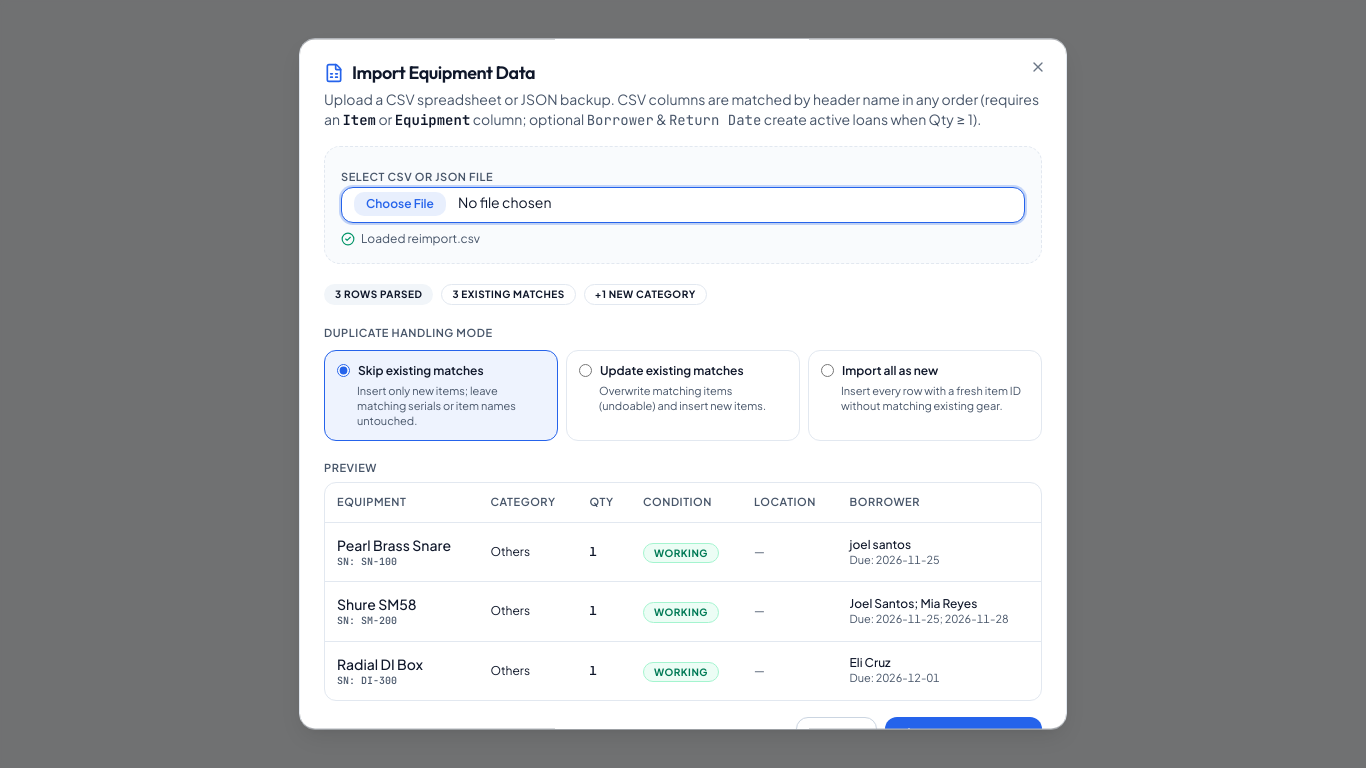
Test: ImportWizardDialog › skips duplicate active loans when re-importing an exported CSV in update mode while creating genuinely new loans
This screenshot has width=1366, height=768.
Earlier steps of the test are not shown.
Later steps or results of the test are not shown.
Expected: the text "Pearl Brass Snare" is shown, x1=337 y1=536 x2=451 y2=554
What coordinates should you click on to do the following:
click the radio button labelled "Update existing matches"
I would click on:
 (586, 371)
Its box is x1=579 y1=364 x2=592 y2=377.
(page scrolled)
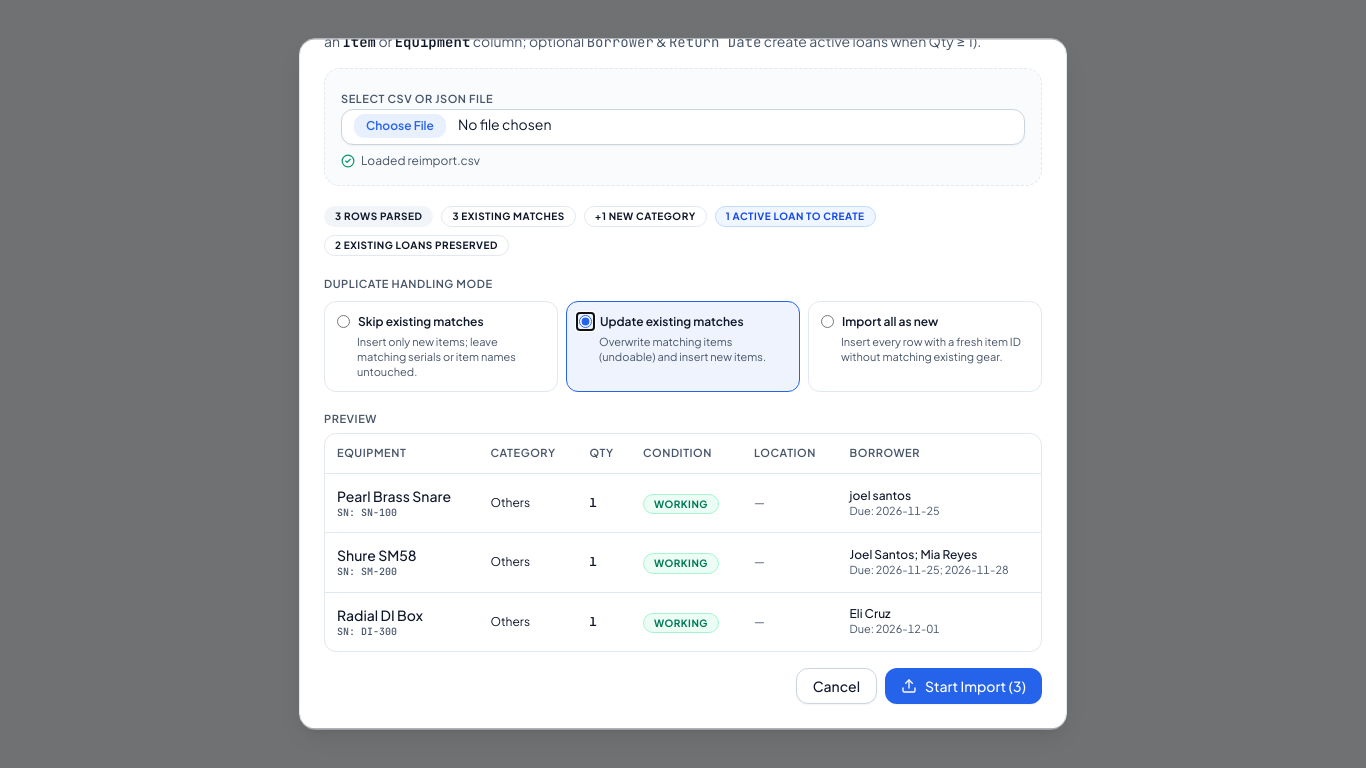
Now the text "2 existing loans preserved" is shown, box x1=324 y1=235 x2=509 y2=256
Now the text "1 active loan to create" is shown, box x1=715 y1=206 x2=876 y2=227
